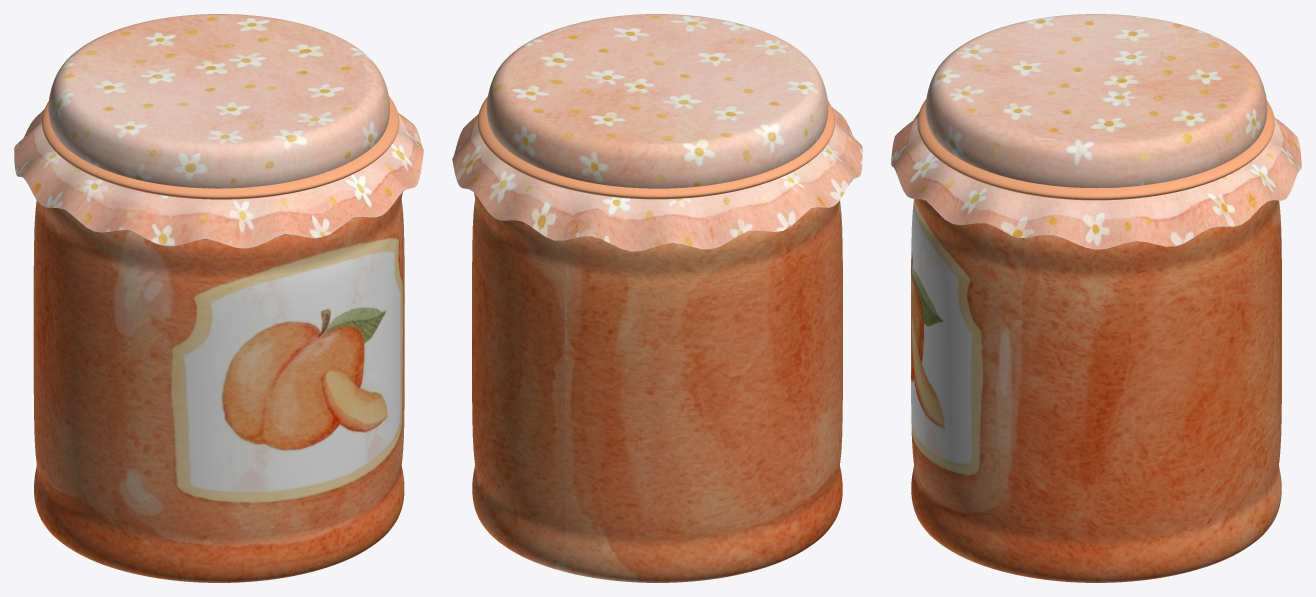
Rendered from JamJar.fbx.
3 renders of one model, left to right at view 1: azimuth 30°, elevation 25°; view 2: azimuth 150°, elevation 25°; view 3: azimuth 270°, elevation 25°, orthographic.
Parts seen in each view (by area): view 1: Cylinder, Torus; view 2: Cylinder, Torus; view 3: Cylinder, Torus.
Part boxes in pixels (<box>): Cylinder: <box>14,14,423,582</box>; Torus: <box>42,96,399,199</box>; Cylinder: <box>452,14,862,582</box>; Torus: <box>477,97,834,199</box>; Cylinder: <box>891,14,1301,582</box>; Torus: <box>917,99,1274,200</box>.
Size of the model in its own units: 2.19 by 2.58 by 2.2.
Materials: 2 (1 with a texture image).
